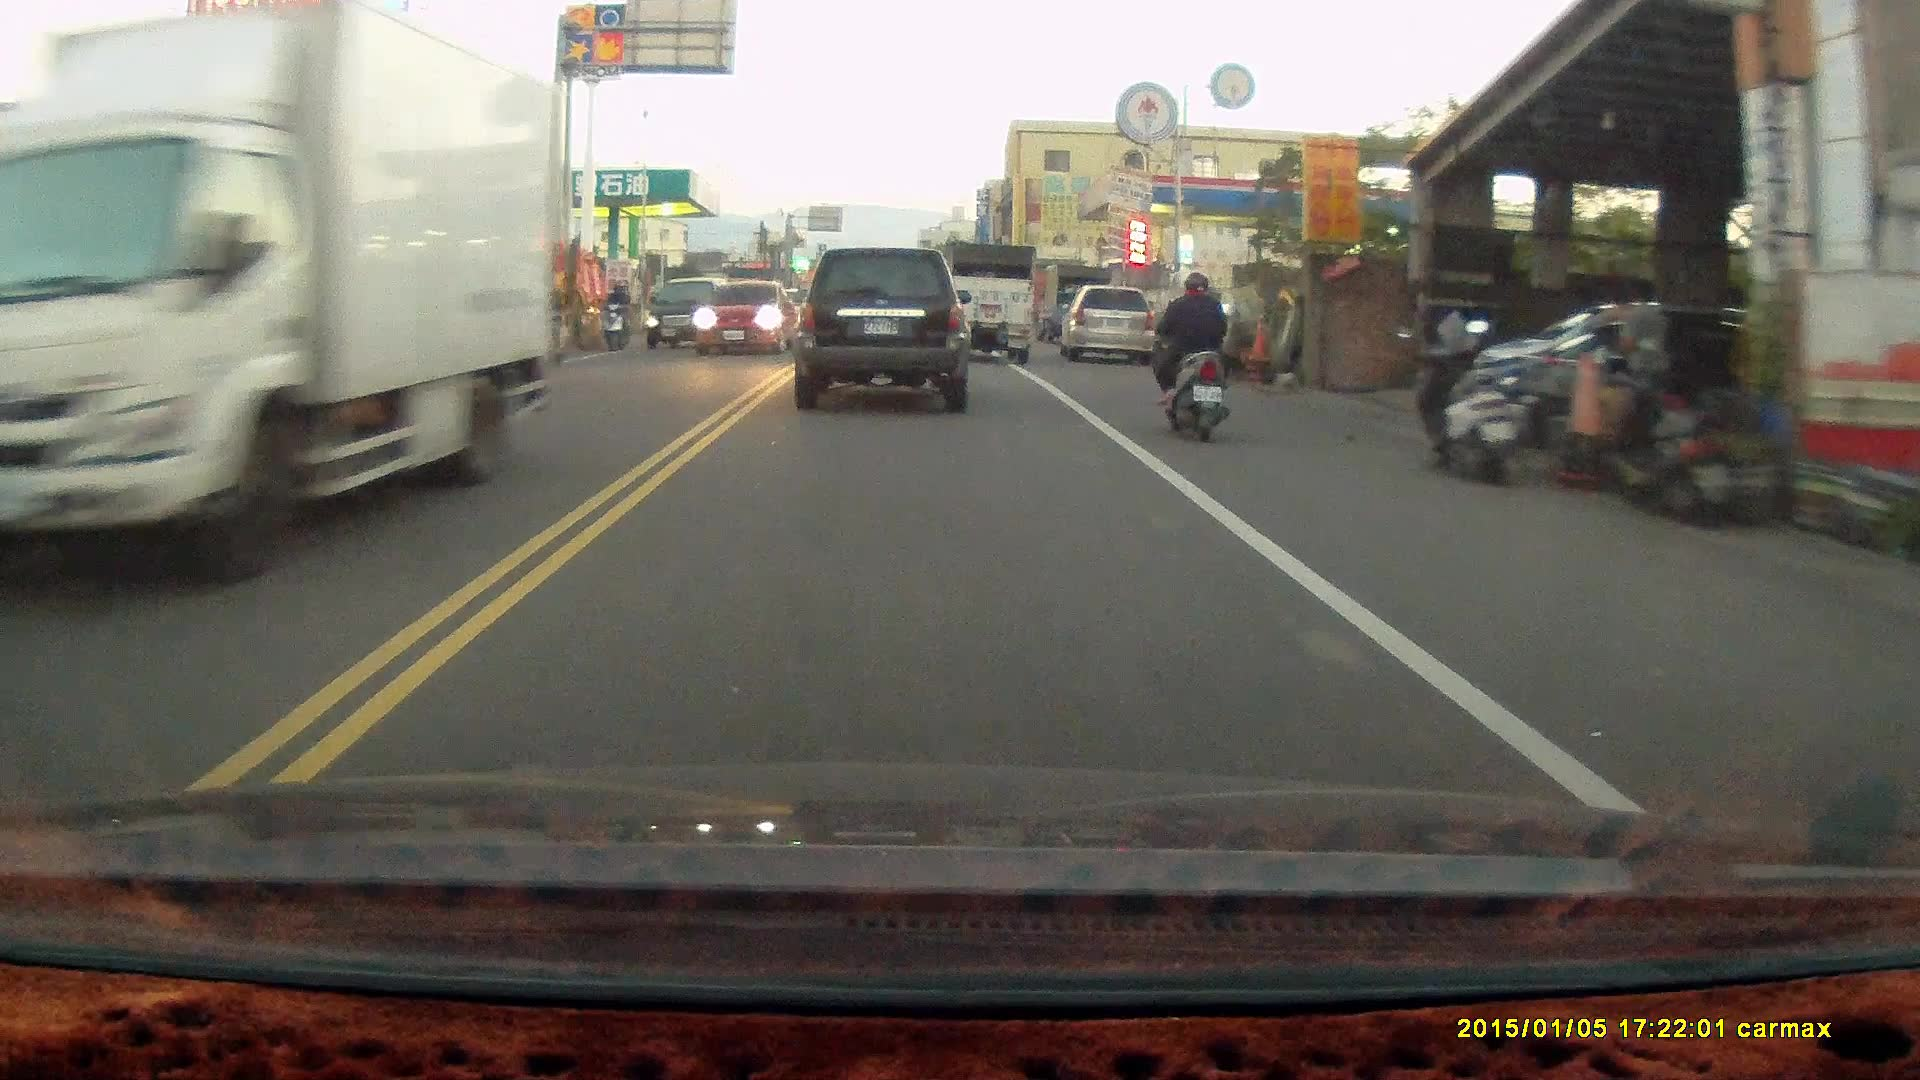pedestrian: (1620, 281, 1673, 428)
rider: (1147, 269, 1237, 444), (598, 278, 632, 349)
vehicle: (1, 37, 560, 584), (788, 244, 972, 413), (944, 238, 1037, 362), (691, 283, 801, 357), (1063, 284, 1153, 366), (644, 276, 736, 351)
